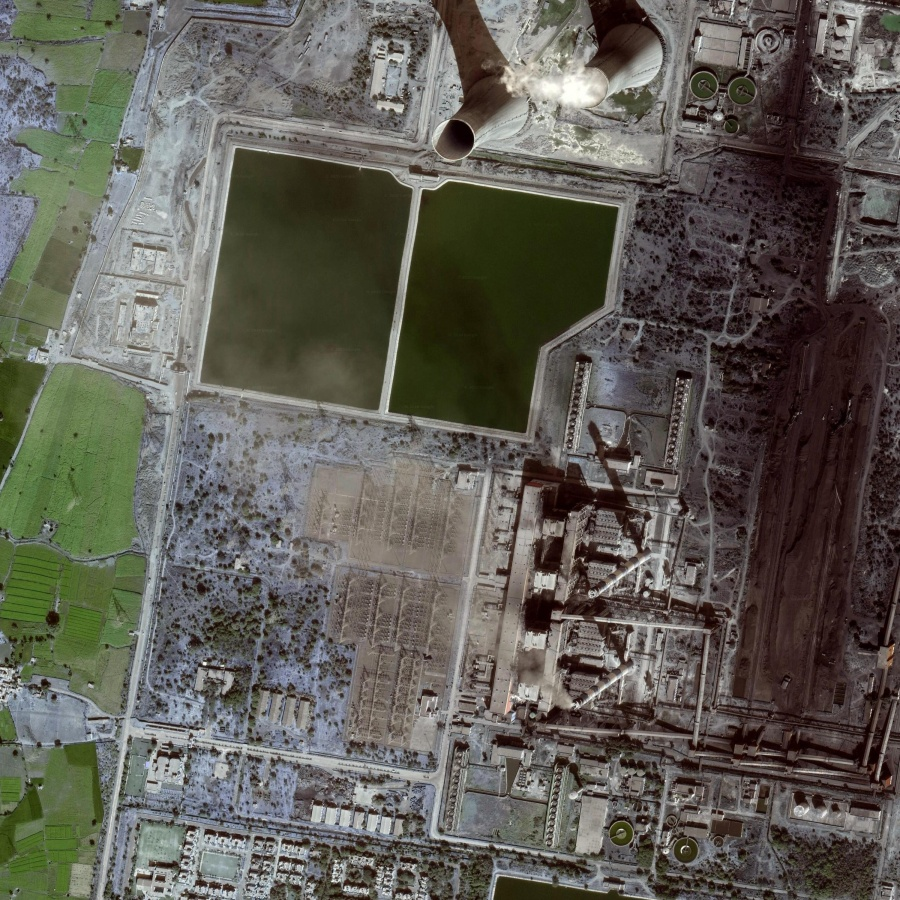PowerPlant: (187, 143, 626, 451)
